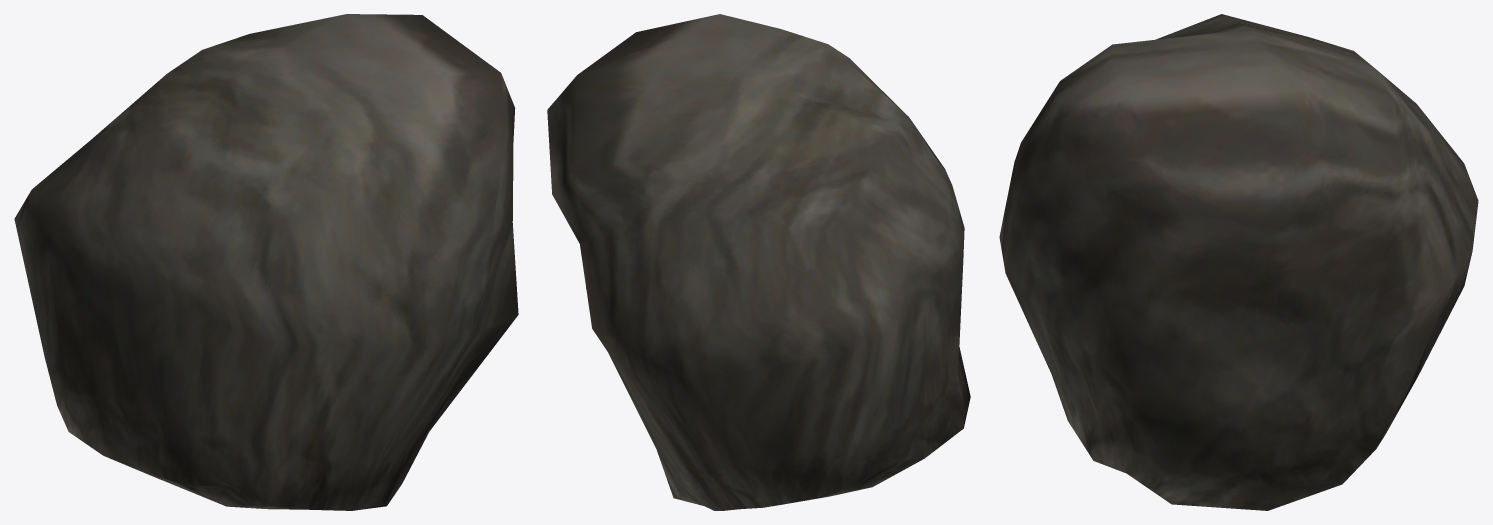
The model's file is Stone42Shape.dae.
The picture shows the model from 3 angles, left to right: view 1: azimuth 30°, elevation 25°; view 2: azimuth 150°, elevation 25°; view 3: azimuth 270°, elevation 25°; orthographic projection. The views are drawn at different scales.
Visible parts, largest first — view 1: Stone42; view 2: Stone42; view 3: Stone42.
Part boxes in pixels (x1,y1,x2,y2): Stone42: [14, 14, 518, 510]; Stone42: [547, 14, 970, 510]; Stone42: [999, 14, 1478, 510].
Size of the model in its own units: 10.14 by 10.22 by 9.98.
